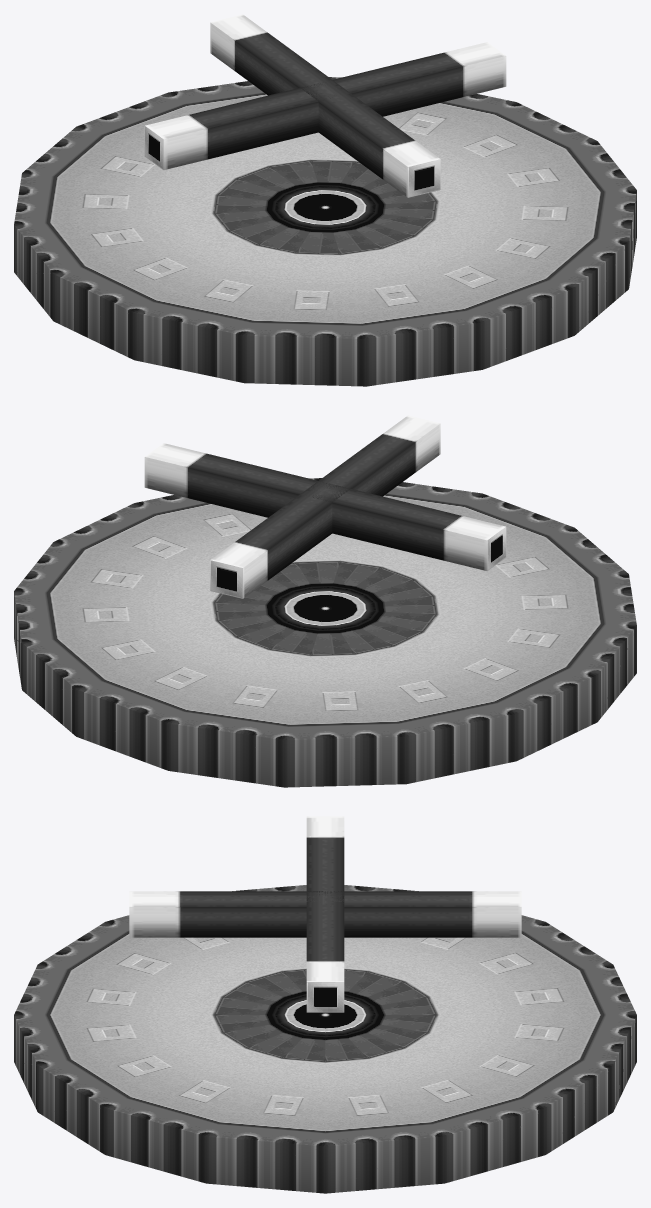
Rendered from clock_course-gear_white.glb.
The picture shows the model from 3 angles, top to bottom: view 1: azimuth 30°, elevation 25°; view 2: azimuth 150°, elevation 25°; view 3: azimuth 270°, elevation 25°; orthographic projection.
Parts seen in each view (by area): view 1: gear_white; view 2: gear_white; view 3: gear_white.
Boxes of the visible parts, box(x1,y1,x2,y2) form: gear_white: box(14, 14, 636, 386); gear_white: box(14, 415, 636, 787); gear_white: box(14, 816, 636, 1193).
Bounding box in the file's own units: 37.5 × 10.81 × 37.5.
Materials: 1 (1 with a texture image).
